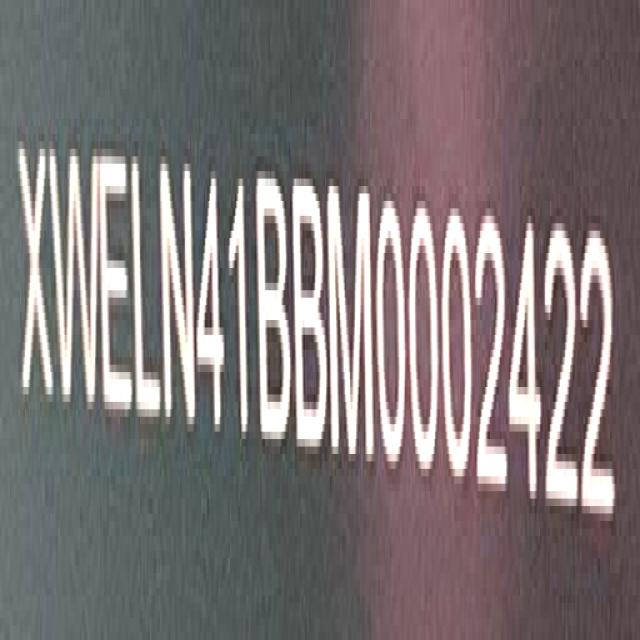0: (443, 212, 475, 492), (378, 198, 410, 475), (410, 200, 440, 476)
1: (229, 165, 251, 450)
2: (544, 224, 576, 520), (584, 230, 616, 525), (476, 213, 508, 498)
4: (511, 214, 542, 511), (198, 165, 228, 444)
B: (257, 173, 293, 454), (296, 173, 330, 459)
E: (100, 147, 134, 430)
L: (134, 152, 164, 434)
M: (332, 183, 374, 471)
N: (158, 149, 198, 433)
W: (50, 135, 100, 427)
X: (18, 128, 54, 424)
